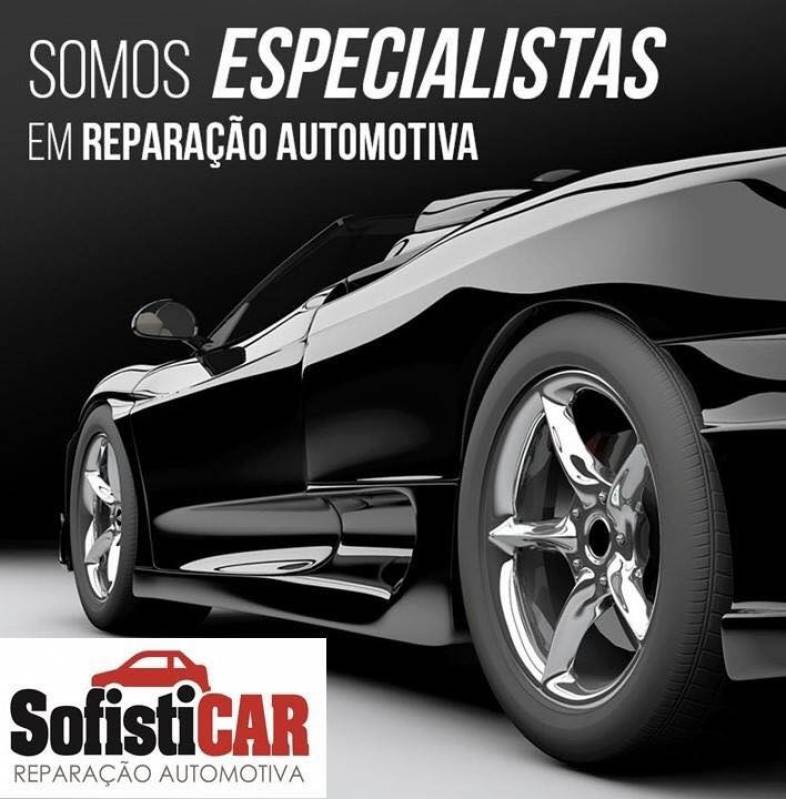Carro: (66, 148, 786, 715)
